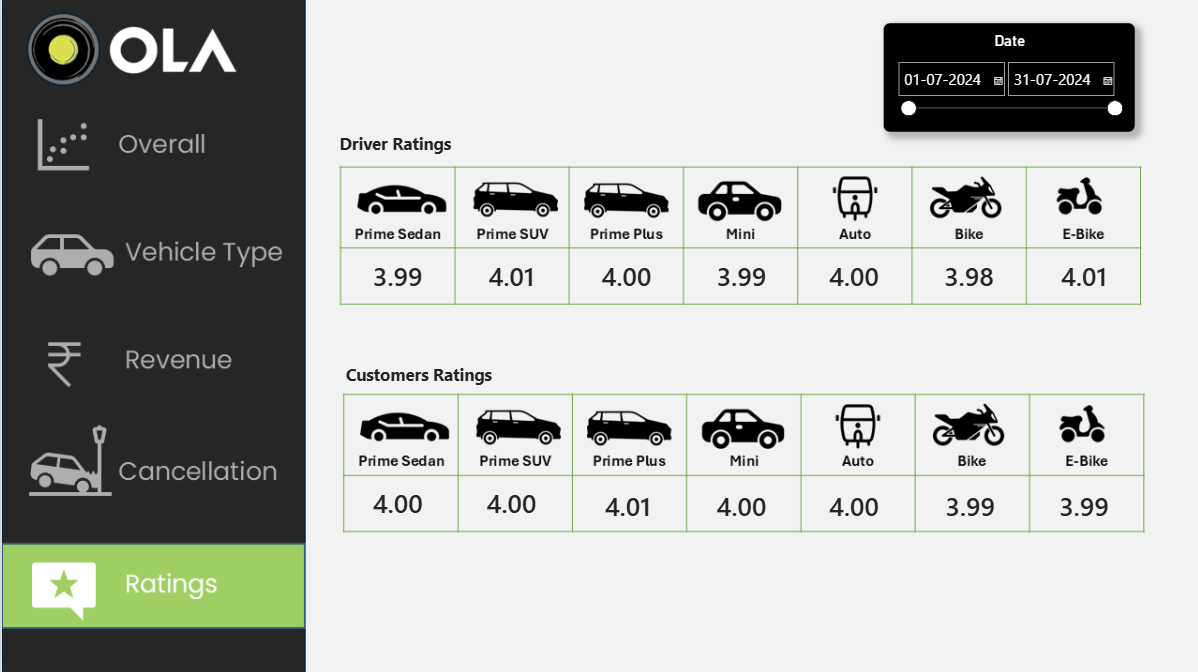

The page's visual inventory and layout, read from the dashboard file:
{"tool":"powerbi","page":{"name":"Ratings","canvas":[1920,1080],"ordinal":4},"visuals":[{"type":"actionButton","box":[0,340,484,134],"z":0},{"type":"actionButton","box":[0,514,484,134],"z":1000},{"type":"actionButton","box":[0,672,484,134],"z":2000},{"type":"actionButton","box":[0,170,484,134],"z":3000},{"type":"cardVisual","fields":{"Data":["Avg(July.Driver_Ratings)"]},"box":[550,408,166,66],"z":4000},{"type":"cardVisual","fields":{"Data":["Avg(July.Driver_Ratings)"]},"box":[732,408,166,66],"z":5000},{"type":"cardVisual","fields":{"Data":["Avg(July.Driver_Ratings)"]},"box":[916,408,166,66],"z":6000},{"type":"cardVisual","fields":{"Data":["Avg(July.Driver_Ratings)"]},"box":[1100,408,166,66],"z":7000},{"type":"cardVisual","fields":{"Data":["Avg(July.Driver_Ratings)"]},"box":[1280,408,166,66],"z":8000},{"type":"cardVisual","fields":{"Data":["Avg(July.Driver_Ratings)"]},"box":[1464,408,166,66],"z":9000},{"type":"cardVisual","fields":{"Data":["Avg(July.Driver_Ratings)"]},"box":[1647.5,407.5,166,66],"z":10000},{"type":"cardVisual","fields":{"Data":["Avg(July.Customer_Rating)"]},"box":[550,772.5,166,66],"z":11000},{"type":"cardVisual","fields":{"Data":["Avg(July.Customer_Rating)"]},"box":[732.5,772.5,166,66],"z":12000},{"type":"cardVisual","fields":{"Data":["Avg(July.Customer_Rating)"]},"box":[917.5,775,166,66],"z":13000},{"type":"cardVisual","fields":{"Data":["Avg(July.Customer_Rating)"]},"box":[1100,775,166,66],"z":14000},{"type":"cardVisual","fields":{"Data":["Avg(July.Customer_Rating)"]},"box":[1280,775,166,66],"z":15000},{"type":"cardVisual","fields":{"Data":["Avg(July.Customer_Rating)"]},"box":[1465,775,166,66],"z":16000},{"type":"cardVisual","fields":{"Data":["Avg(July.Customer_Rating)"]},"box":[1647.5,775,166,66],"z":17000},{"type":"textbox","box":[540,212.5,192.5,52.5],"z":18000},{"type":"textbox","box":[550,581.1,240,47.5],"z":18001},{"type":"slicer","title":"Date","fields":{"Values":["July.Date"]},"box":[1410,37.5,403.3,175],"z":18002}]}

Visuals, with their boxes in screenshot pixels (x1, y1, x2, y2), scaled from the page's 1920x1080 canvas onto the 1198x672 screenshot:
actionButton: x1=0, y1=212, x2=302, y2=295
actionButton: x1=0, y1=320, x2=302, y2=403
actionButton: x1=0, y1=418, x2=302, y2=502
actionButton: x1=0, y1=106, x2=302, y2=189
cardVisual - Avg(July.Driver_Ratings): x1=343, y1=254, x2=447, y2=295
cardVisual - Avg(July.Driver_Ratings): x1=457, y1=254, x2=560, y2=295
cardVisual - Avg(July.Driver_Ratings): x1=572, y1=254, x2=675, y2=295
cardVisual - Avg(July.Driver_Ratings): x1=686, y1=254, x2=790, y2=295
cardVisual - Avg(July.Driver_Ratings): x1=799, y1=254, x2=902, y2=295
cardVisual - Avg(July.Driver_Ratings): x1=913, y1=254, x2=1017, y2=295
cardVisual - Avg(July.Driver_Ratings): x1=1028, y1=254, x2=1132, y2=295
cardVisual - Avg(July.Customer_Rating): x1=343, y1=481, x2=447, y2=522
cardVisual - Avg(July.Customer_Rating): x1=457, y1=481, x2=561, y2=522
cardVisual - Avg(July.Customer_Rating): x1=572, y1=482, x2=676, y2=523
cardVisual - Avg(July.Customer_Rating): x1=686, y1=482, x2=790, y2=523
cardVisual - Avg(July.Customer_Rating): x1=799, y1=482, x2=902, y2=523
cardVisual - Avg(July.Customer_Rating): x1=914, y1=482, x2=1018, y2=523
cardVisual - Avg(July.Customer_Rating): x1=1028, y1=482, x2=1132, y2=523
textbox: x1=337, y1=132, x2=457, y2=165
textbox: x1=343, y1=362, x2=493, y2=391
"Date" slicer: x1=880, y1=23, x2=1131, y2=132
